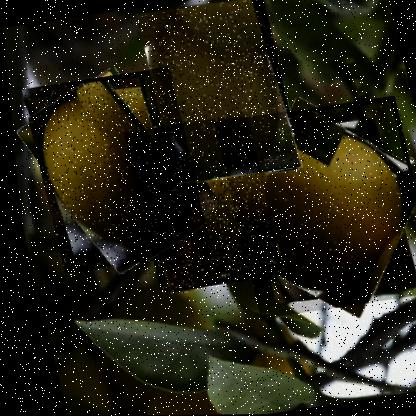lemon: (209, 94, 415, 319), (17, 66, 209, 273), (134, 0, 302, 186), (119, 114, 280, 293)
